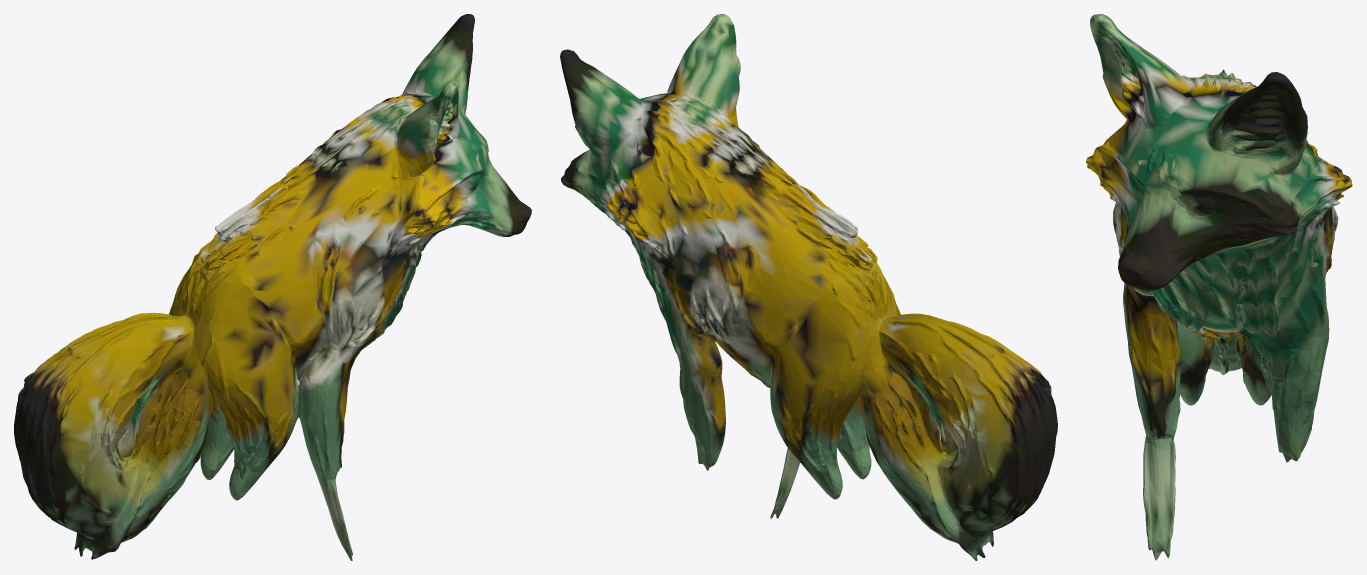
File: skeleton.glb
The picture shows the model from 3 angles, left to right: view 1: azimuth 30°, elevation 25°; view 2: azimuth 150°, elevation 25°; view 3: azimuth 270°, elevation 25°; orthographic projection. The views are drawn at different scales.
Visible parts, largest first — view 1: world; view 2: world; view 3: world.
Boxes of the visible parts, <box> form: world: <box>14,14,531,560</box>; world: <box>560,14,1057,560</box>; world: <box>1086,14,1352,560</box>.
Bounding box in the file's own units: 1.04 × 1 × 0.4073.
